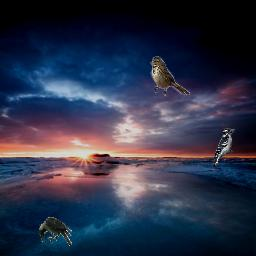Crow: (39, 217, 72, 246)
Sparrow: (150, 56, 190, 96)
Woodpecker: (212, 128, 235, 168)
